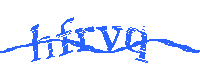f: (55, 17, 75, 56)
h: (30, 23, 54, 61)
q: (126, 26, 149, 64)
r: (74, 26, 94, 52)
v: (96, 25, 124, 52)
